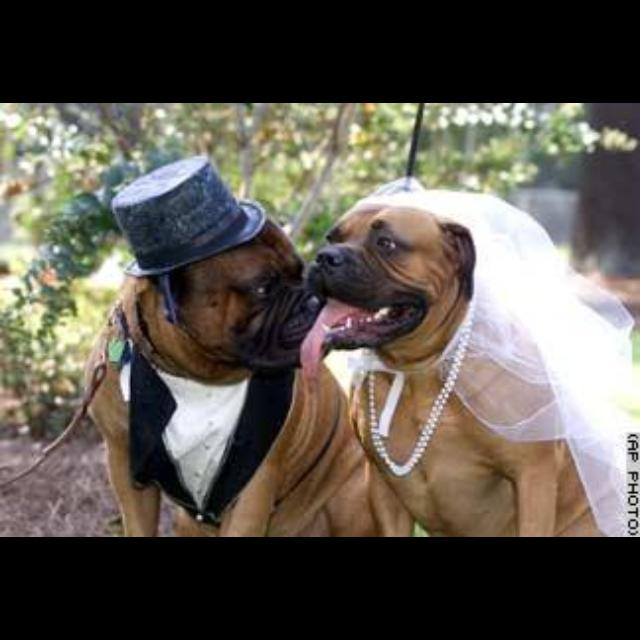bullmastiff: (305, 188, 609, 537), (87, 220, 380, 539)
